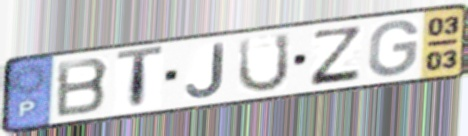B: (54, 55, 112, 120)
G: (366, 18, 421, 78)
J: (184, 41, 226, 100)
T: (114, 43, 166, 113)
U: (235, 31, 292, 95)
Z: (308, 25, 365, 88)
